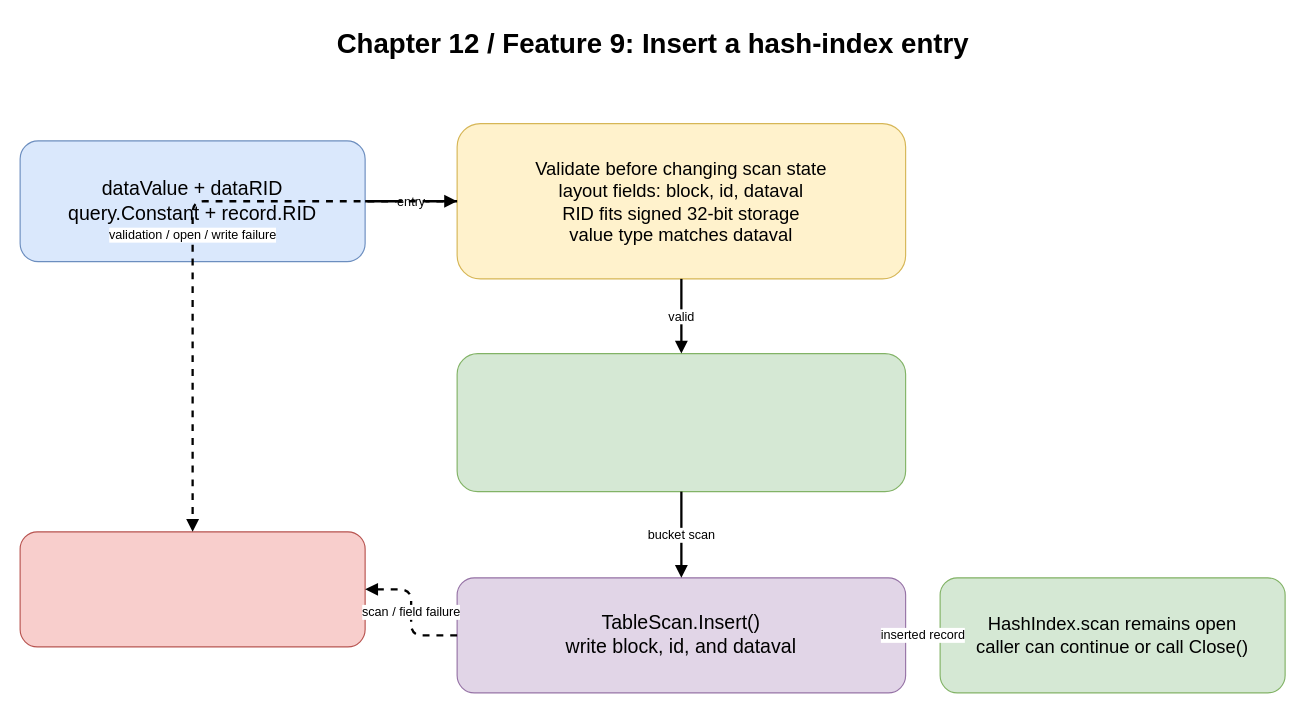
The diagram is 1305 pixels wide and 713 high, and some of its shapes have lost their labels. The centre of each missing label's shape, as x and y in pixels:
"BeforeFirst(dataValue) close prior scan hash key and open bucket table" goes at (681,422).
"Contextual error preserve the underlying cause" goes at (192,589).
